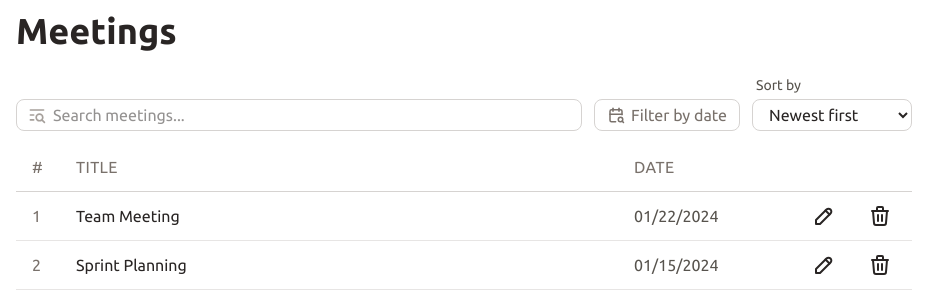
Meeting Edit › saving changes updates the meeting title in the list
The width and height of the screenshot is (929, 307).
Click the button named "Edit" next to "01/22/2024" at coordinates (824, 216), box [808,200,840,232]
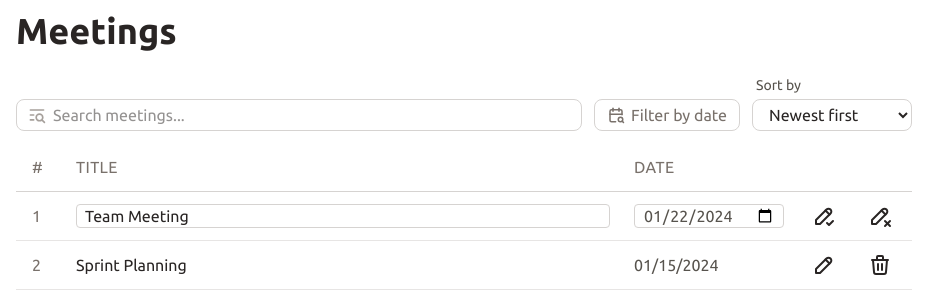
Replace the text in the field showing "Team Meeting" with "Updated Meeting" at coordinates (343, 216), box [76,204,610,228]
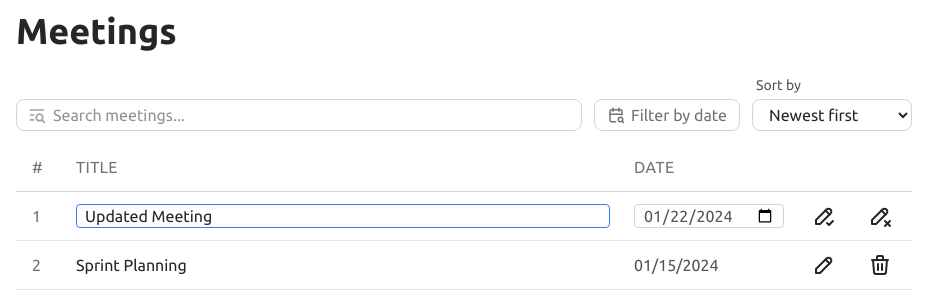
Click the button named "Confirm" at coordinates (824, 216), box [808,200,840,232]
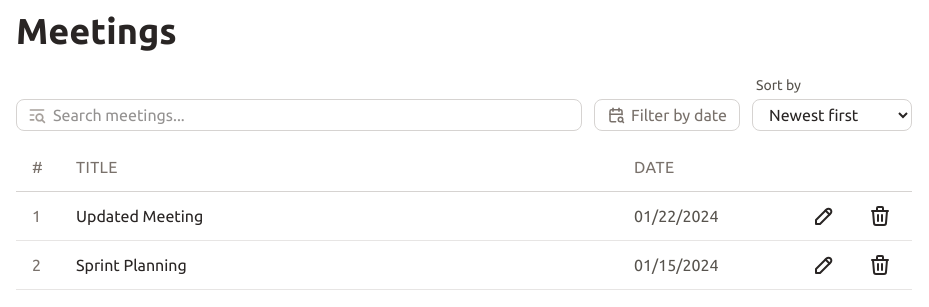
Expected: the link "Updated Meeting" is shown, [76,207,203,225]
